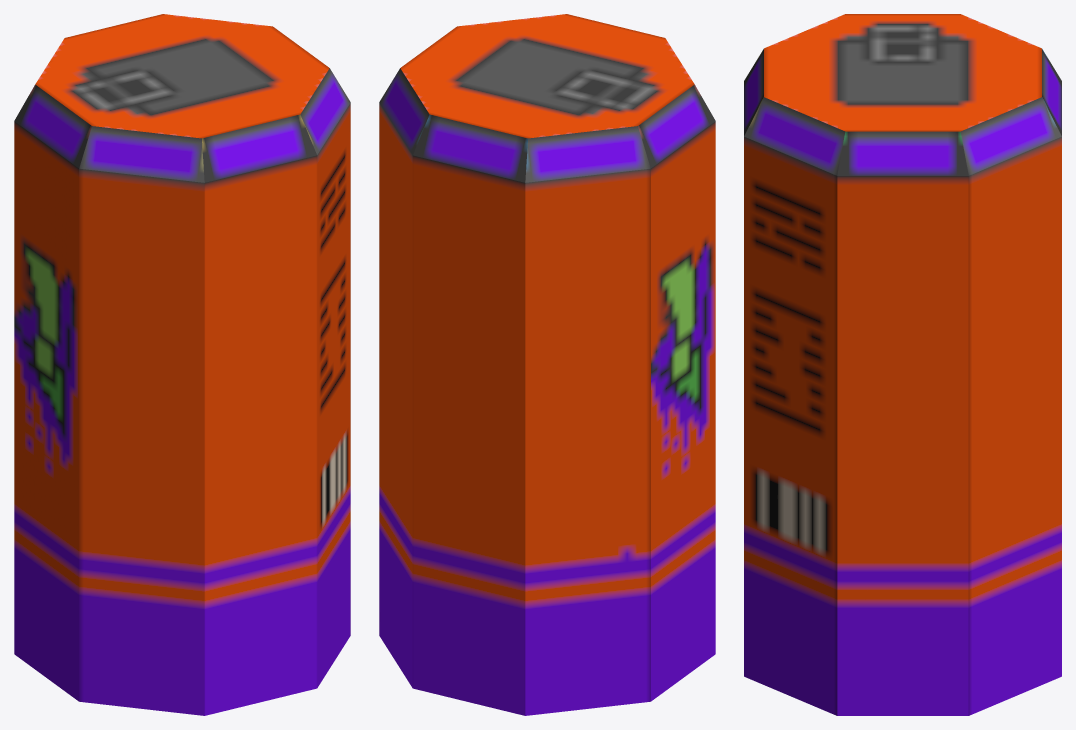
Rendered from soda.fbx.
3 views of the same model, side by side, from view 1: azimuth 30°, elevation 25°; view 2: azimuth 150°, elevation 25°; view 3: azimuth 270°, elevation 25° (orthographic).
Visible parts, largest first — view 1: cylinder; view 2: cylinder; view 3: cylinder.
Boxes of the visible parts, x1=… form: cylinder: x1=14, y1=14, x2=350, y2=715; cylinder: x1=379, y1=14, x2=715, y2=715; cylinder: x1=744, y1=14, x2=1061, y2=715.
Bounding box in the file's own units: 50 × 100 × 50.
Materials: 1 (1 with a texture image).
